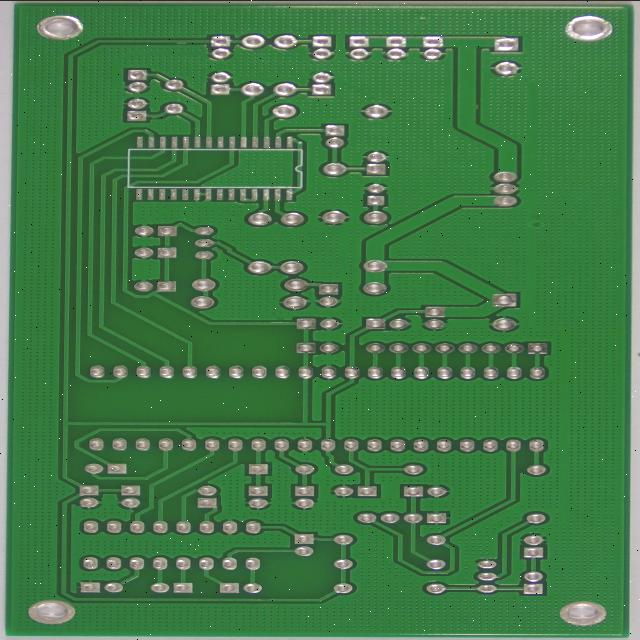spur: (443, 103, 462, 115), (112, 38, 131, 47), (84, 116, 101, 123)
